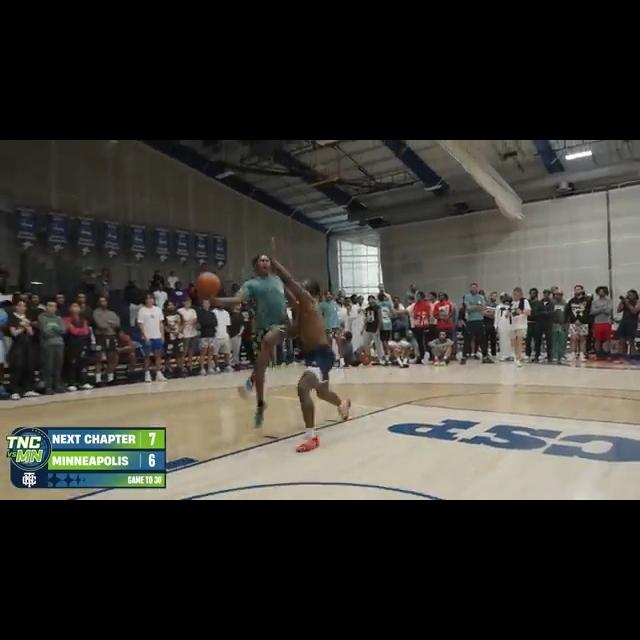basketball: (193, 271, 221, 300)
